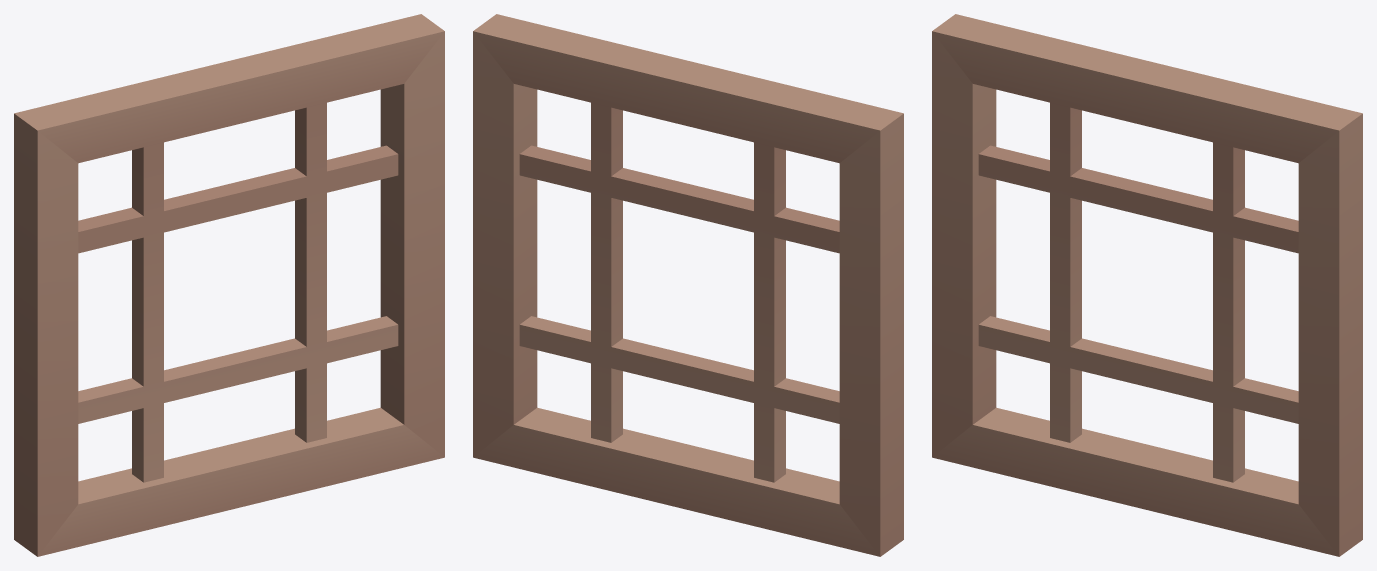
File: frame-b.glb
The picture shows the model from 3 angles, left to right: view 1: azimuth 30°, elevation 25°; view 2: azimuth 150°, elevation 25°; view 3: azimuth 330°, elevation 25°; orthographic projection.
Parts seen in each view (by area): view 1: frame-b; view 2: frame-b; view 3: frame-b.
Boxes of the visible parts, x1=… form: frame-b: x1=14, y1=14, x2=444, y2=556; frame-b: x1=473, y1=14, x2=903, y2=556; frame-b: x1=932, y1=14, x2=1362, y2=556.
Bounding box in the file's own units: 1 × 1 × 0.1.
